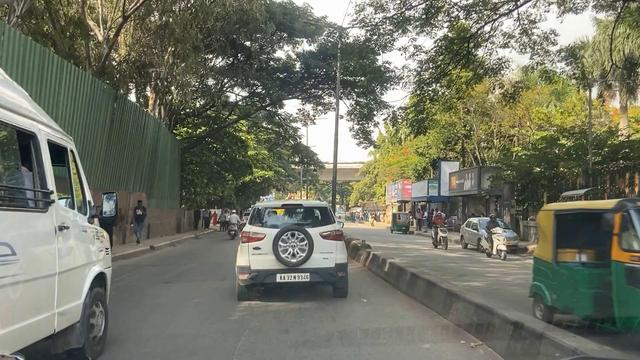HMV: (0, 70, 121, 359)
LMV: (254, 206, 344, 312)
